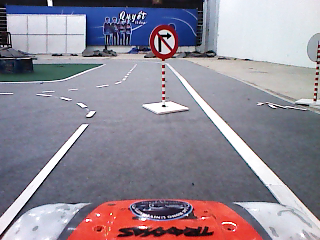ban: (149, 25, 179, 59)
